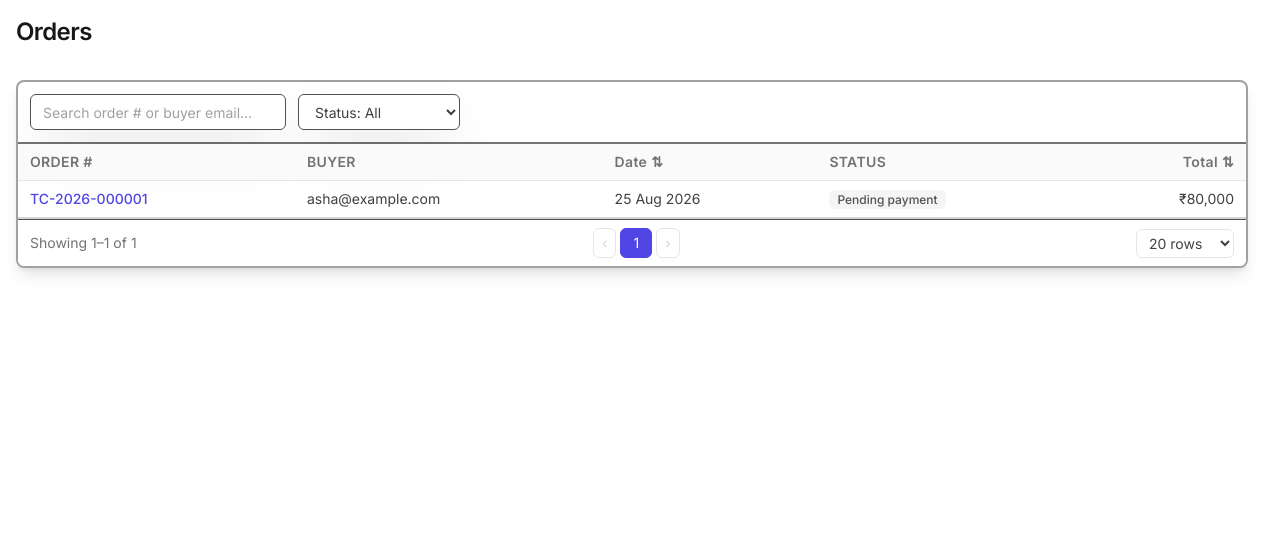
Test: OrdersPage › navigates to the detail view, rendering items, shipping address, and the status timeline
Click the link "TC-2026-000001": [89, 198] box left=30, top=190, right=148, bottom=207
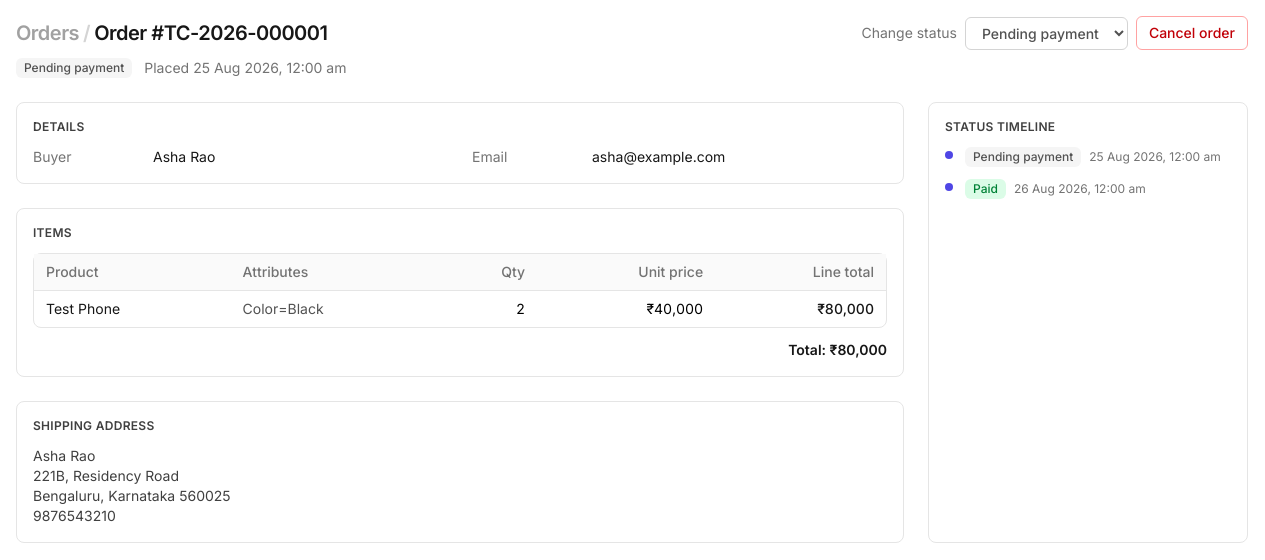
Now the heading "Orders /Order #TC-2026-000001" is shown, box left=16, top=19, right=328, bottom=47
Now the text "Test Phone" is shown, box left=34, top=290, right=231, bottom=327
Now the text "221B, Residency Road" is shown, box left=33, top=467, right=179, bottom=484
